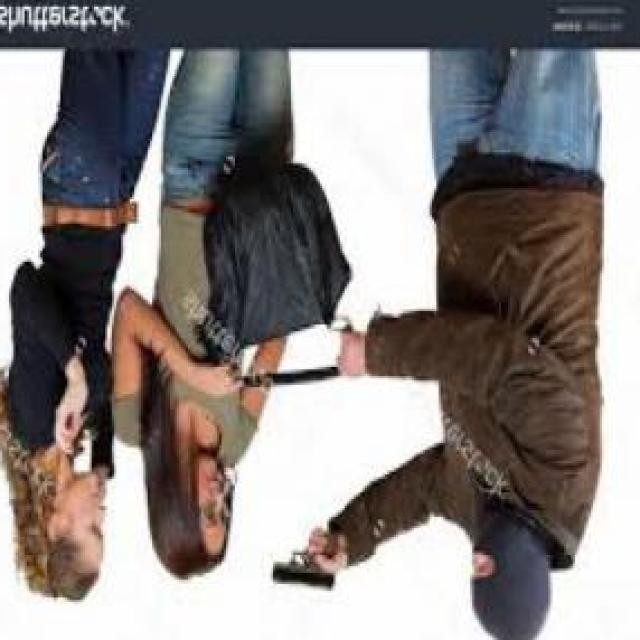pistol: (270, 516, 354, 600)
